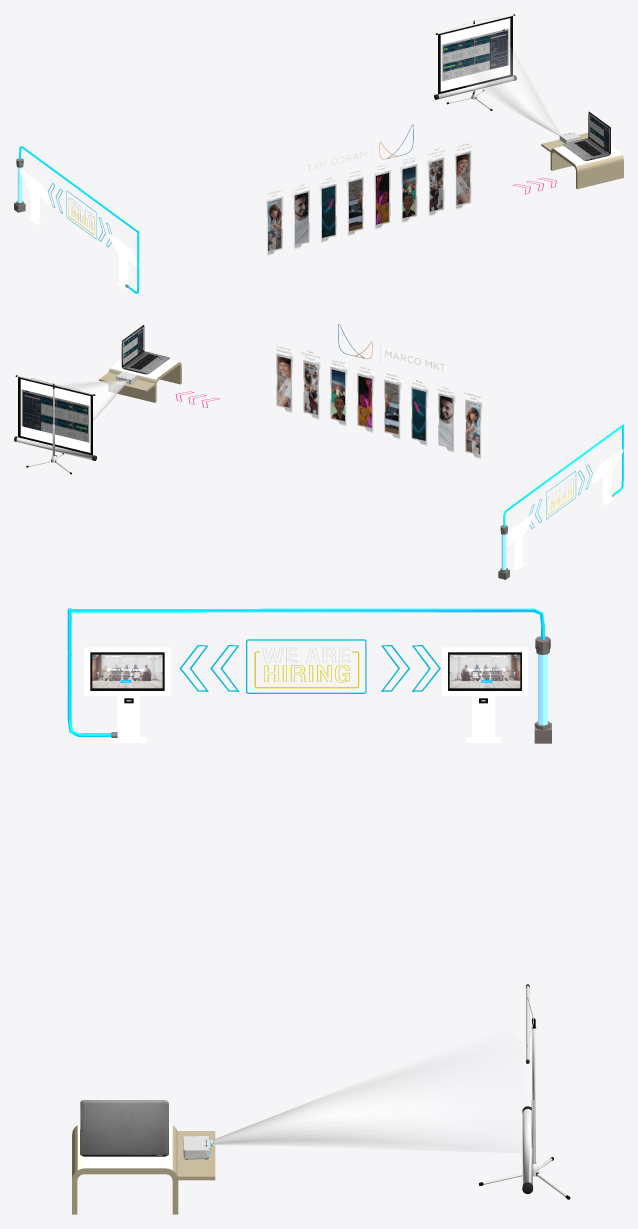
File: P02_MARCOMKT.glb
3 renders of one model, top to bottom at view 1: azimuth 30°, elevation 25°; view 2: azimuth 150°, elevation 25°; view 3: azimuth 270°, elevation 25°, orthographic. The views are drawn at different scales.
Visible parts, largest first — view 1: mkt_letrero.002, mkt_letrero.003, mkt_proyector.012, mkt_hazdeluz, mkt_mueble.004, mkt_totem.001, mkt_notebook.001, mkt_energia.001, mkt_proyector.011, mkt_wearehiring.001; view 2: mkt_letrero.003, mkt_proyector.012, mkt_letrero.002, mkt_mueble.004, mkt_totem.001, mkt_notebook.001, mkt_hazdeluz, mkt_energia.001, mkt_wearehiring.001, mkt_proyector.011; view 3: mkt_hazdeluz, mkt_totem.001, mkt_notebook.001, mkt_energia.001, mkt_mueble.004, mkt_wearehiring.001, mkt_proyector.011.
Boxes of the visible parts, x1,y1,x2,y2 form: mkt_letrero.002: (266,150,471,255); mkt_letrero.003: (267,143,471,250); mkt_proyector.012: (438,16,512,94); mkt_hazdeluz: (465,48,561,135); mkt_mueble.004: (541,132,623,189); mkt_totem.001: (19,169,140,289); mkt_notebook.001: (563,111,610,160); mkt_energia.001: (14,146,139,293); mkt_proyector.011: (434,75,516,99); mkt_wearehiring.001: (66,191,96,239); mkt_letrero.003: (275,345,480,453); mkt_proyector.012: (18,377,92,455); mkt_letrero.002: (276,353,482,458); mkt_mueble.004: (99,359,181,402); mkt_totem.001: (506,449,623,569); mkt_notebook.001: (121,325,169,374); mkt_hazdeluz: (61,380,127,420); mkt_energia.001: (498,424,623,579); mkt_wearehiring.001: (546,471,576,519); mkt_proyector.011: (14,436,96,460); mkt_hazdeluz: (212,1039,509,1152); mkt_totem.001: (84,647,527,742); mkt_notebook.001: (80,1100,168,1156); mkt_energia.001: (67,608,551,743); mkt_mueble.004: (72,1123,215,1214); mkt_wearehiring.001: (246,639,366,693); mkt_proyector.011: (522,1106,533,1193).
Size of what is drawn, in the model's own units: 25.4 by 5.04 by 11.14.
11 materials, 11 textured.
